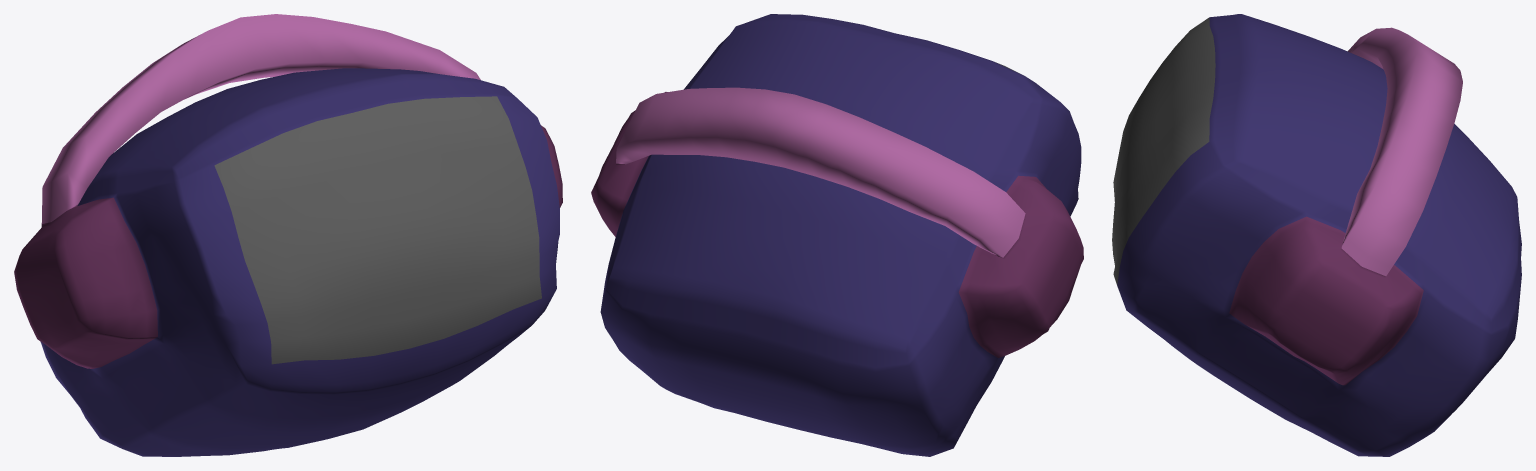
The model's file is PlayerVfinal.fbx.
The picture shows the model from 3 angles, left to right: view 1: azimuth 30°, elevation 25°; view 2: azimuth 150°, elevation 25°; view 3: azimuth 270°, elevation 25°; orthographic projection. The views are drawn at different scales.
Parts seen in each view (by area): view 1: Player; view 2: Player; view 3: Player.
Boxes of the visible parts, box(x1,y1,x2,y2) form: Player: box(14, 14, 562, 456); Player: box(591, 14, 1083, 456); Player: box(1112, 14, 1521, 456).
Size of the model in its own units: 22.14 by 16.81 by 17.65.
